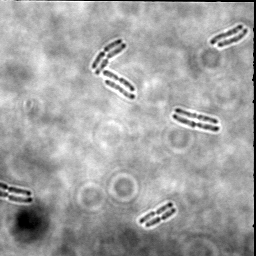Dividing: (94, 42, 126, 75), (90, 38, 123, 70), (170, 113, 220, 132), (138, 201, 174, 225), (174, 106, 219, 124), (102, 70, 135, 93), (209, 23, 243, 45), (144, 207, 177, 229), (216, 27, 248, 48), (104, 79, 136, 100), (1, 180, 32, 197), (1, 189, 33, 204)
